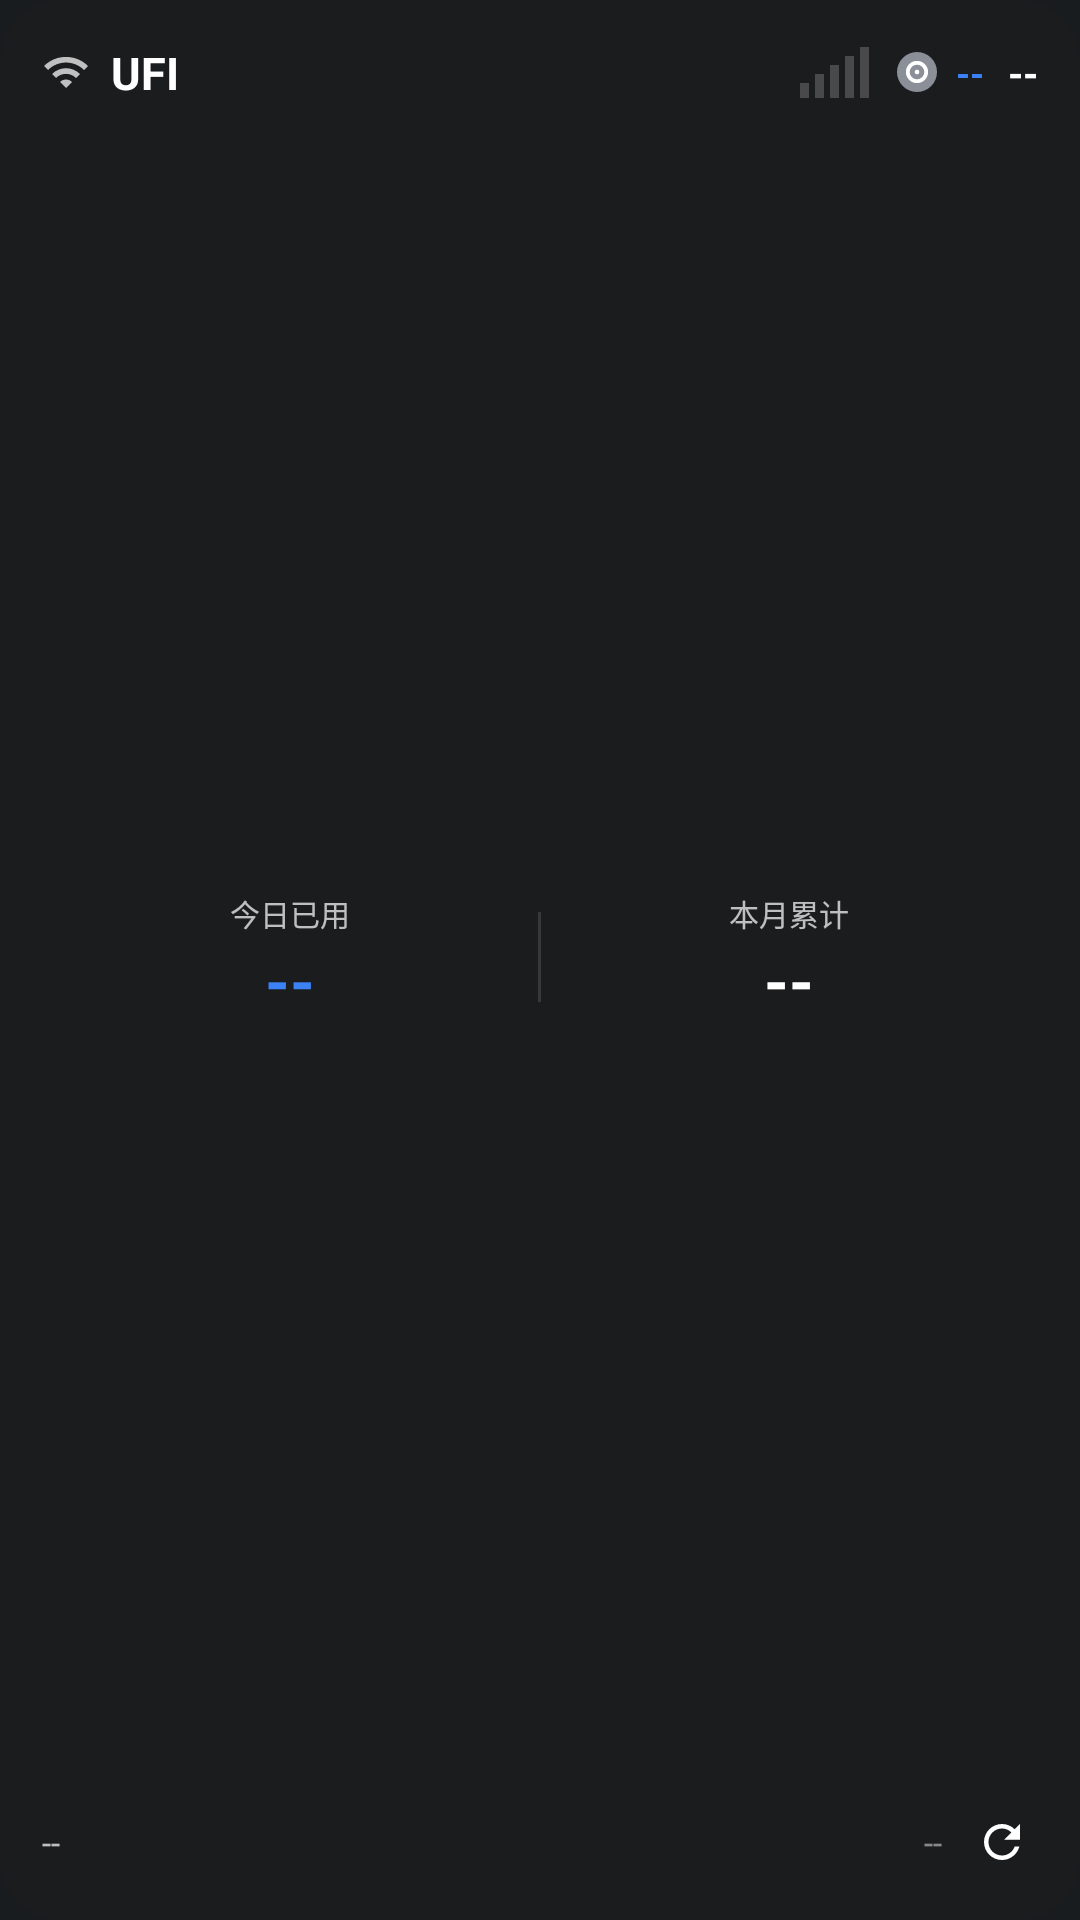

Point at icon controls on the screen. Image size 1080 × 1920, points as (x,y).
widget wifi: (66,72)
刷新: (1002,1842)
